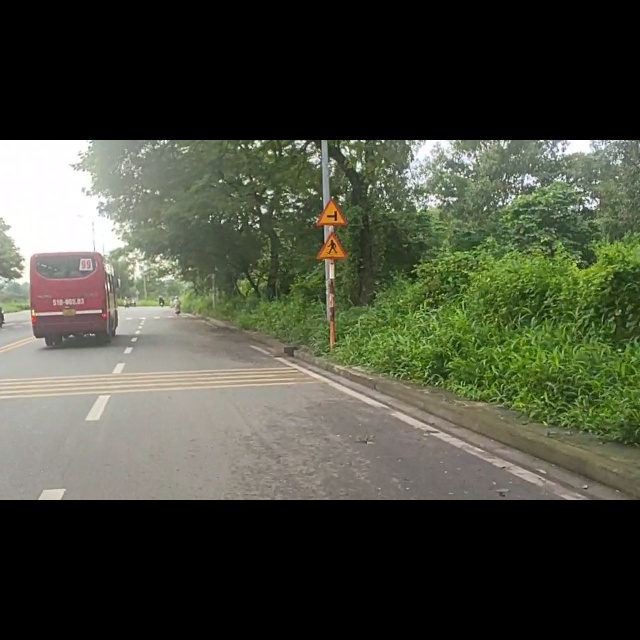bien_nguy_hiem: (314, 161, 352, 219), (312, 103, 353, 153)
